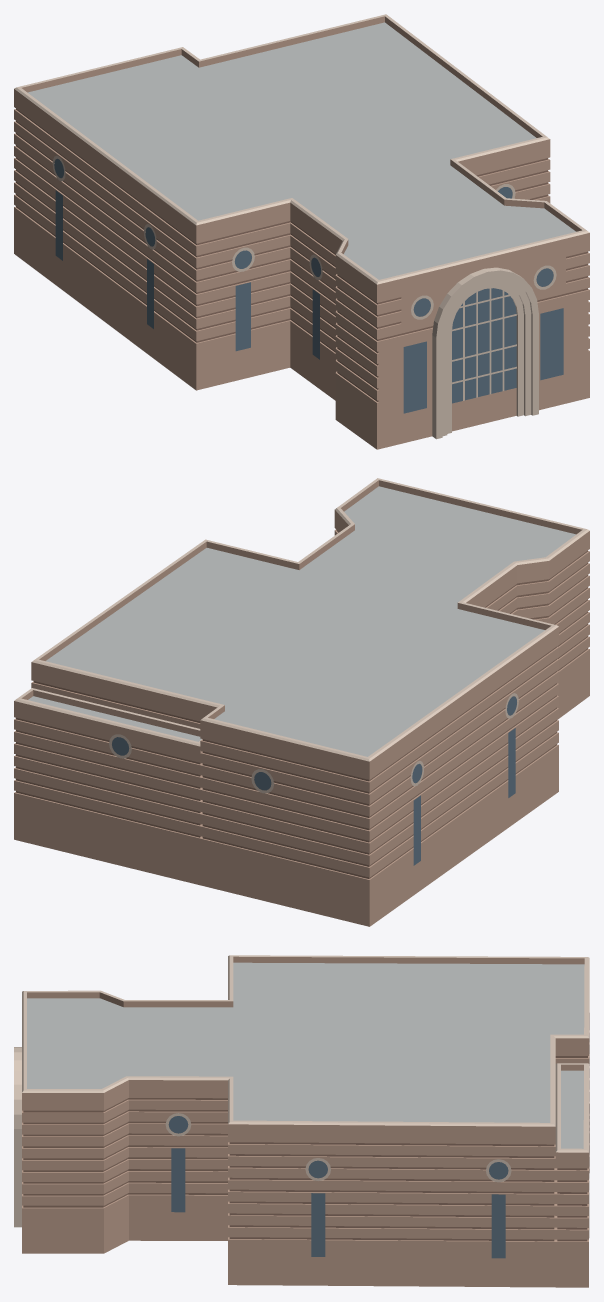
Rendered from hou-wortham-theater-center.glb.
3 renders of one model, top to bottom at view 1: azimuth 30°, elevation 25°; view 2: azimuth 150°, elevation 25°; view 3: azimuth 270°, elevation 25°, orthographic. The views are drawn at different scales.
Visible parts, largest first — view 1: Wortham Theater Center; view 2: Wortham Theater Center; view 3: Wortham Theater Center.
Part boxes in pixels (x1,y1,x2,y2): Wortham Theater Center: [14, 14, 589, 449]; Wortham Theater Center: [14, 478, 589, 926]; Wortham Theater Center: [14, 955, 589, 1287].
Bounding box in the file's own units: 92.5 × 41 × 132.
